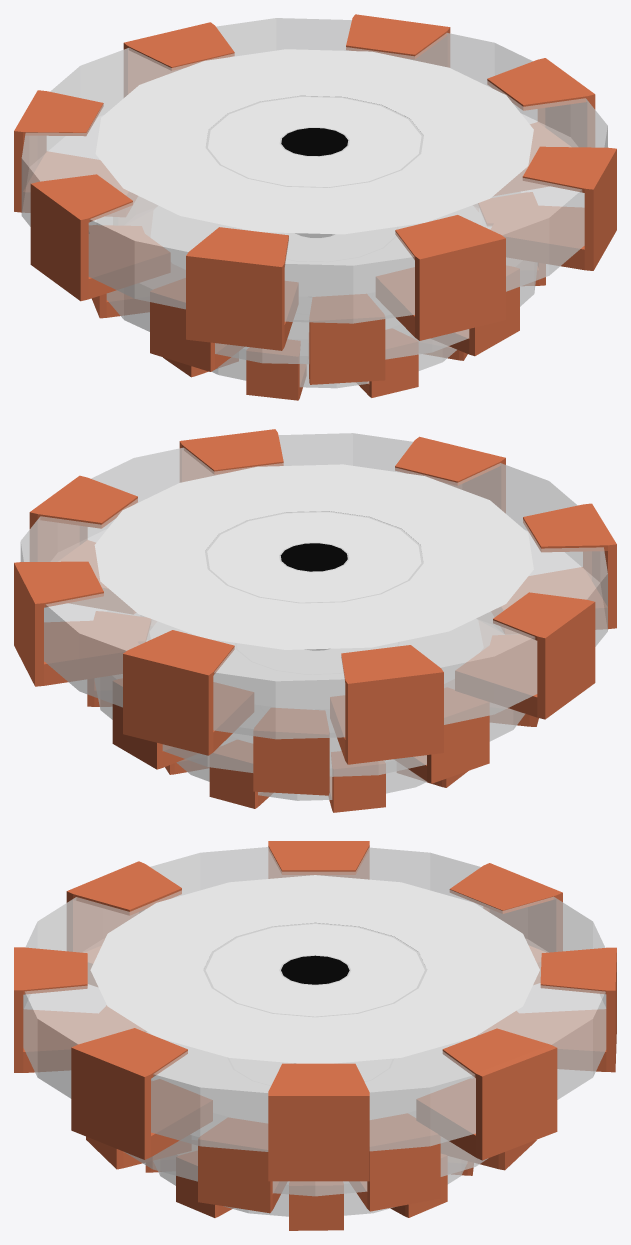
The picture shows the model from 3 angles, top to bottom: view 1: azimuth 30°, elevation 25°; view 2: azimuth 150°, elevation 25°; view 3: azimuth 270°, elevation 25°; orthographic projection.
Parts seen in each view (by area): view 1: Cylinder, Cylinder.001, Cube, Cube.002, Cube.008, Cube.004, Cube.005, Cube.003, Cube.015, Cube.001, Cube.010, Cube.007 (+6 smaller); view 2: Cylinder, Cylinder.001, Cube.001, Cube.002, Cube.005, Cube.007, Cube.008, Cube.003, Cube.009, Cube.013, Cube, Cube.004 (+6 smaller); view 3: Cylinder, Cylinder.001, Cube.007, Cube.004, Cube.003, Cube.001, Cube, Cube.011, Cube.012, Cube.008, Cube.005, Cube.002 (+6 smaller).
Part boxes in pixels (x1=…): Cylinder: x1=21, y1=18, x2=607, y2=323; Cylinder.001: x1=97, y1=192, x2=536, y2=364; Cube: x1=376, y1=215, x2=505, y2=340; Cube.002: x1=30, y1=174, x2=170, y2=301; Cube.008: x1=186, y1=227, x2=298, y2=350; Cube.004: x1=491, y1=146, x2=616, y2=270; Cube.005: x1=14, y1=90, x2=137, y2=216; Cube.003: x1=487, y1=58, x2=595, y2=195; Cube.015: x1=309, y1=294, x2=385, y2=384; Cube.001: x1=123, y1=22, x2=234, y2=97; Cube.010: x1=150, y1=278, x2=243, y2=371; Cube.007: x1=346, y1=14, x2=450, y2=67; Cylinder: x1=20, y1=433, x2=607, y2=739; Cylinder.001: x1=95, y1=611, x2=525, y2=776; Cube.001: x1=123, y1=630, x2=253, y2=755; Cube.002: x1=455, y1=592, x2=595, y2=719; Cube.005: x1=330, y1=645, x2=443, y2=764; Cube.007: x1=14, y1=561, x2=138, y2=686; Cube.008: x1=491, y1=503, x2=616, y2=633; Cube.003: x1=29, y1=475, x2=137, y2=614; Cube.009: x1=253, y1=708, x2=329, y2=795; Cube.013: x1=394, y1=687, x2=489, y2=783; Cube: x1=395, y1=436, x2=505, y2=512; Cube.004: x1=179, y1=429, x2=283, y2=482; Cylinder: x1=23, y1=847, x2=606, y2=1151; Cylinder.001: x1=124, y1=1032, x2=488, y2=1196; Cube.007: x1=416, y1=1028, x2=557, y2=1160; Cube.004: x1=71, y1=1028, x2=212, y2=1159; Cube.003: x1=268, y1=1063, x2=369, y2=1181; Cube.001: x1=503, y1=947, x2=616, y2=1072; Cube: x1=14, y1=947, x2=127, y2=1072; Cube.011: x1=349, y1=1113, x2=440, y2=1211; Cube.012: x1=198, y1=1118, x2=286, y2=1213; Cube.008: x1=66, y1=861, x2=181, y2=986; Cube.005: x1=449, y1=863, x2=562, y2=984; Cube.002: x1=268, y1=841, x2=369, y2=879.
Size of the model in its own units: 40.2 by 14.26 by 40.11.
